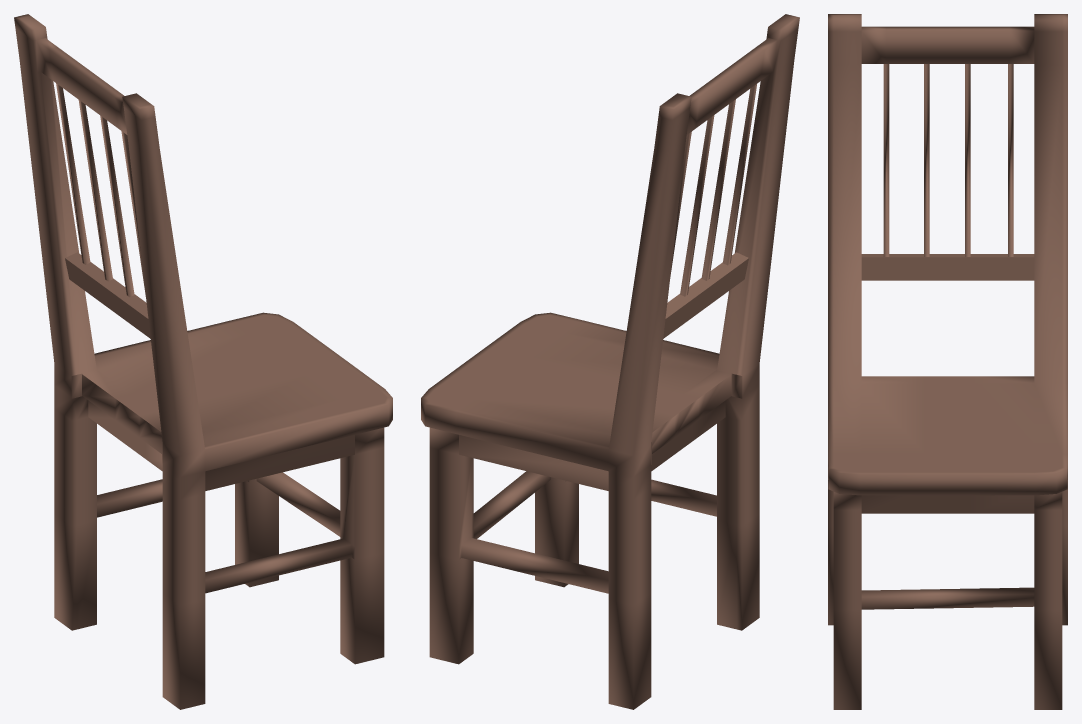
The model's file is silla.obj.
3 views of the same model, side by side, from view 1: azimuth 30°, elevation 25°; view 2: azimuth 150°, elevation 25°; view 3: azimuth 270°, elevation 25° (orthographic). The views are drawn at different scales.
Visible parts, largest first — view 1: pasted__polySurface28; view 2: pasted__polySurface28; view 3: pasted__polySurface28.
Part boxes in pixels (<box>): pasted__polySurface28: <box>14,14,392,709</box>; pasted__polySurface28: <box>421,14,799,709</box>; pasted__polySurface28: <box>828,14,1067,709</box>.
Size of the model in its own units: 3.24 by 7.2 by 2.69.
Materials: 1 (1 with a texture image).
